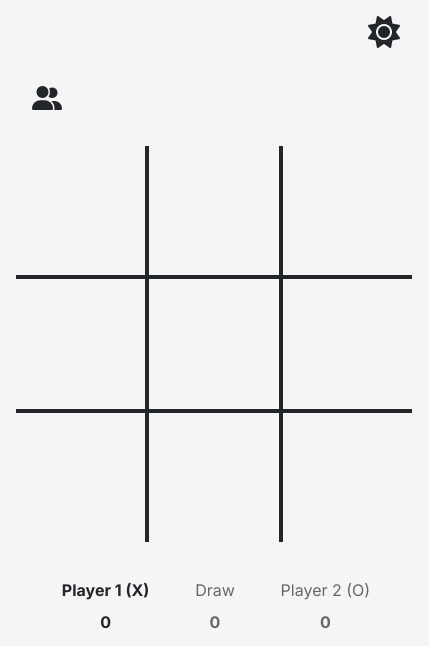
Test: Game Flow › should handle difficulty changes in single player mode
Note: Switch to single player
Click the link with test id "game-mode-button".
click(47, 98)  # box left=32, top=88, right=62, bottom=108
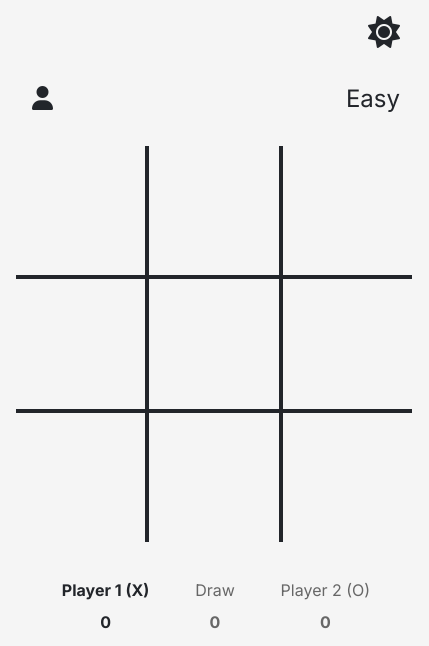
Check: the link with test id "difficulty-button" reads "Easy"
Click the link with test id "difficulty-button".
click(373, 99)  # box left=346, top=84, right=400, bottom=113
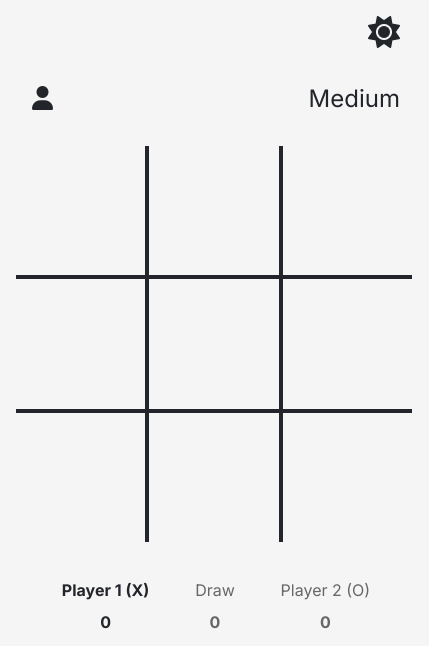
Check: the link with test id "difficulty-button" reads "Medium"
Click the link with test id "difficulty-button".
click(355, 99)  # box left=309, top=84, right=400, bottom=113
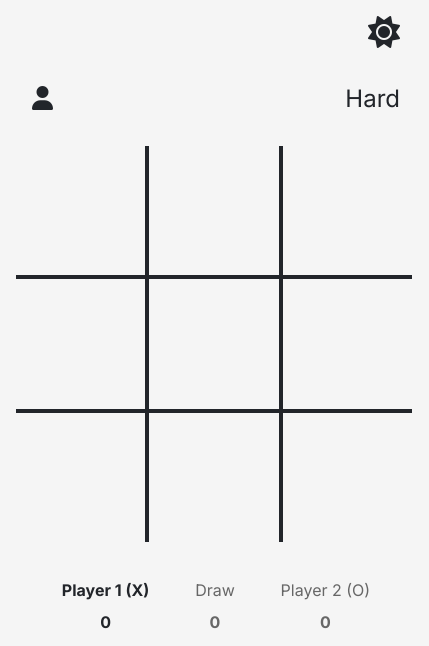
Check: the link with test id "difficulty-button" reads "Hard", box left=345, top=84, right=400, bottom=113
Note: Verify CPU behavior changes (check for blocking move in Hard mode)
Click the 1st element with test id "board-square".
click(83, 213)  # box left=16, top=146, right=149, bottom=279
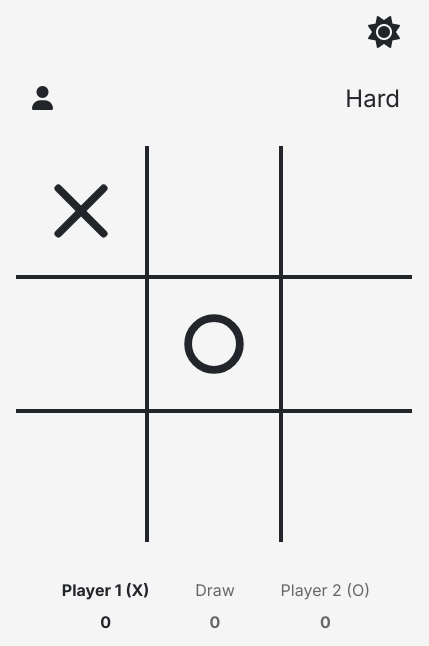
Check: the 2nd element with test id "square-content" is shown, box left=182, top=312, right=247, bottom=377
Click the 9th element with test id "board-square".
click(348, 478)  # box left=283, top=413, right=412, bottom=542
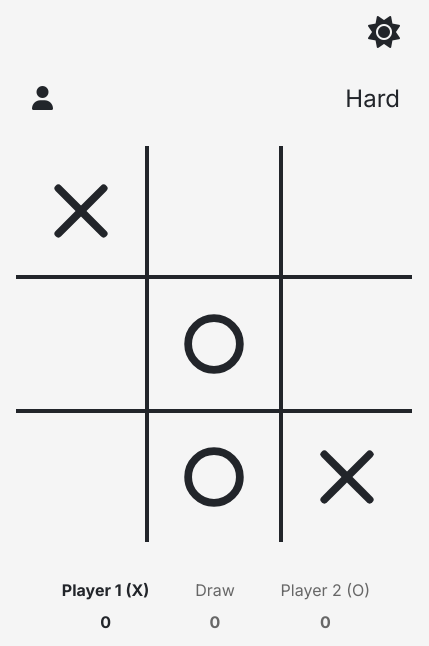
Check: the 3rd element with test id "square-content" is shown, box left=182, top=445, right=247, bottom=510
